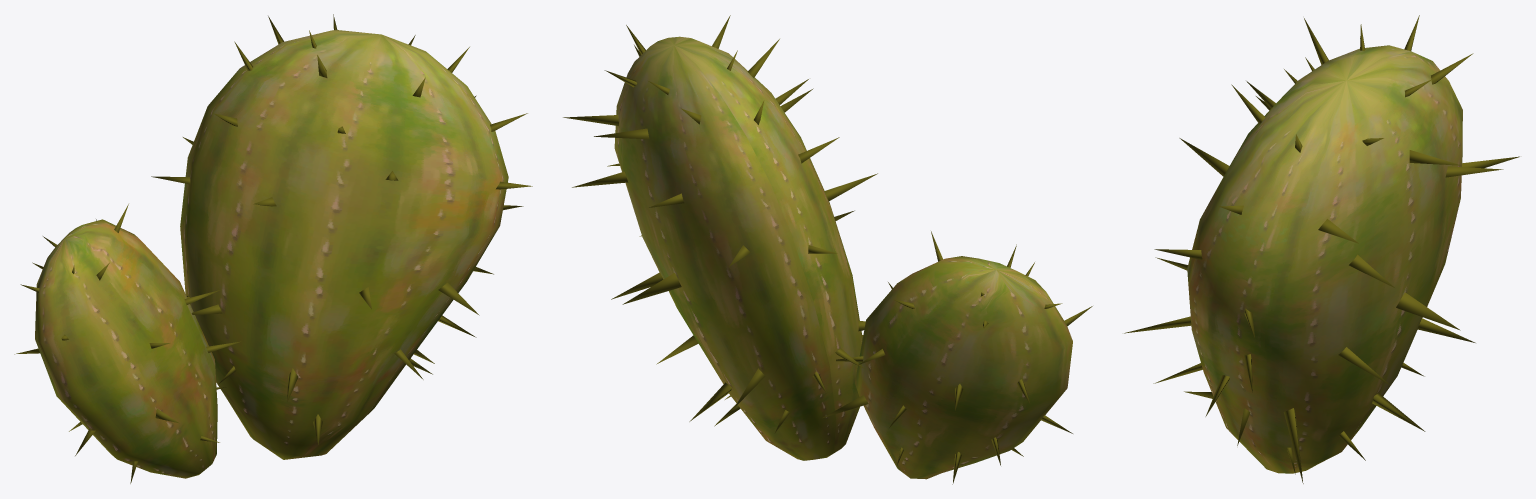
Rendered from P_CactusPricklyPear01.obj.
3 renders of one model, left to right at view 1: azimuth 30°, elevation 25°; view 2: azimuth 150°, elevation 25°; view 3: azimuth 270°, elevation 25°, orthographic. The views are drawn at different scales.
Bounding box in the file's own units: 0.9795 × 0.7897 × 0.6125.
